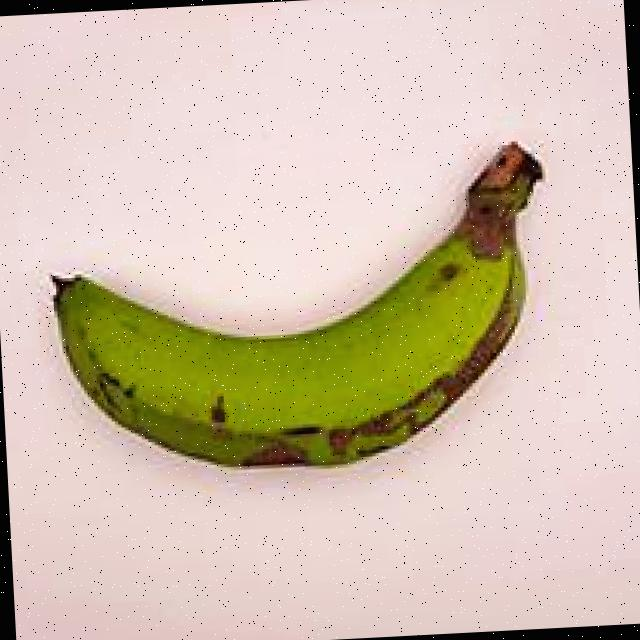Raw: (8, 108, 586, 518)
